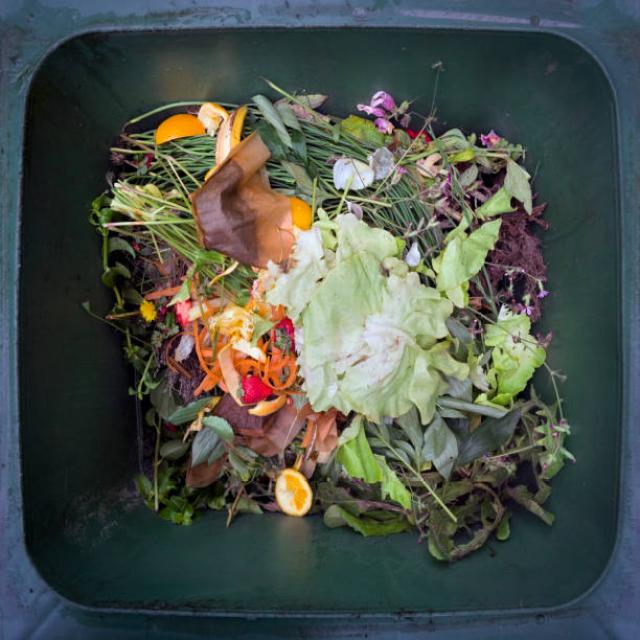trash: (70, 93, 577, 545)
